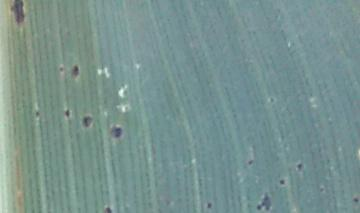tarspot: (10, 1, 26, 25), (257, 191, 271, 213), (111, 124, 123, 139), (81, 114, 93, 127), (71, 64, 79, 79), (277, 176, 286, 186), (295, 160, 303, 171), (267, 95, 276, 104), (64, 107, 71, 118), (103, 205, 112, 213), (318, 184, 325, 194), (33, 108, 40, 117), (247, 157, 254, 166), (58, 65, 65, 73), (353, 196, 360, 204), (207, 201, 212, 208)
